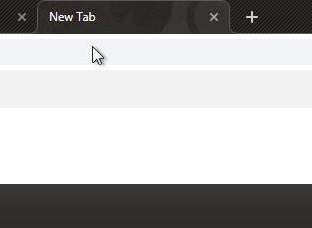cursor: (90, 43, 105, 66)
